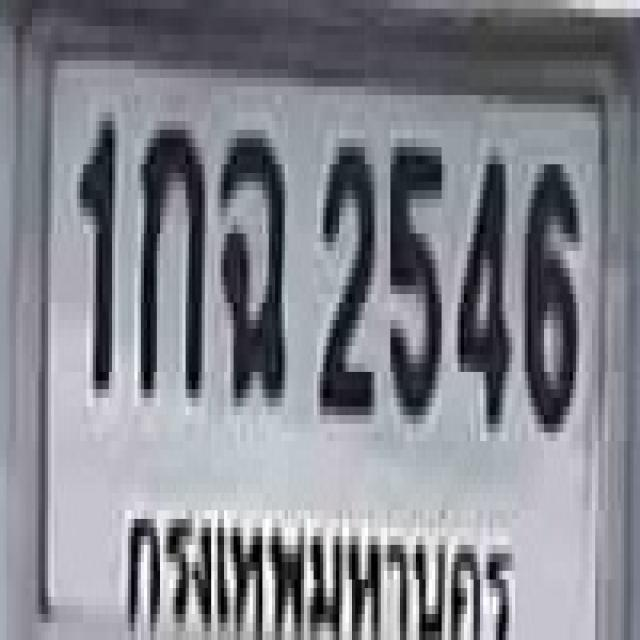-: (218, 125, 284, 394), (138, 121, 202, 389)
1: (77, 108, 112, 385)
2: (317, 138, 371, 406)
4: (454, 147, 506, 424)
5: (387, 138, 442, 406)
6: (522, 156, 576, 424)
BKK: (105, 479, 526, 640)
